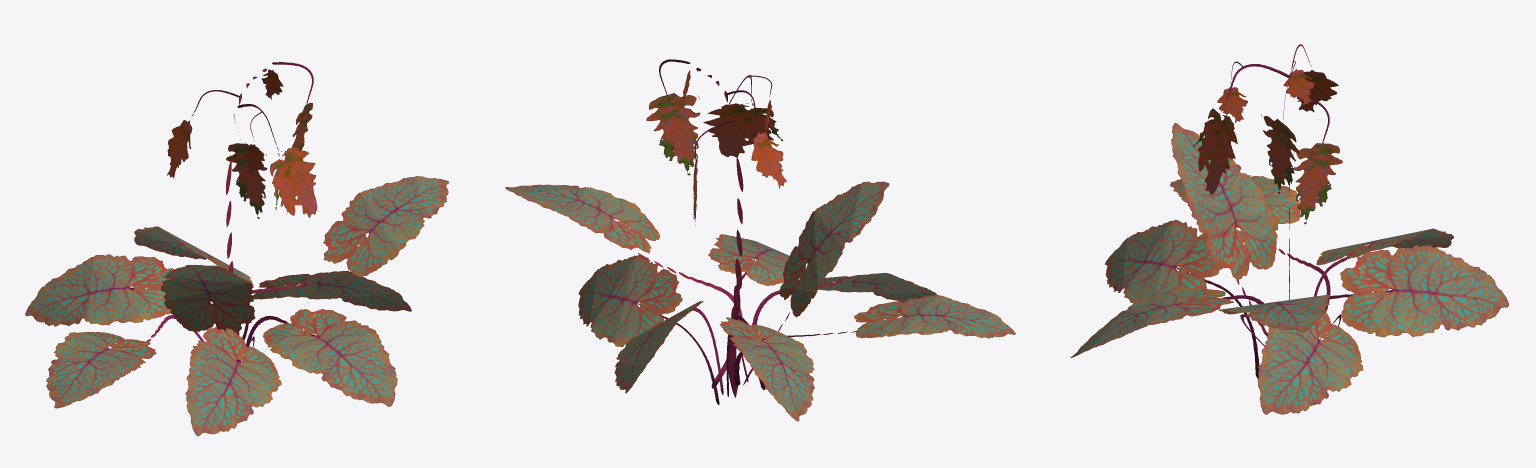
File: Spin Reef B5.fbx
3 renders of one model, left to right at view 1: azimuth 30°, elevation 25°; view 2: azimuth 150°, elevation 25°; view 3: azimuth 270°, elevation 25°, orthographic. The views are drawn at different scales.
Visible parts, largest first — view 1: Spin Reef B5; view 2: Spin Reef B5; view 3: Spin Reef B5.
Part boxes in pixels (x1=…): Spin Reef B5: x1=25, y1=62, x2=449, y2=436; Spin Reef B5: x1=505, y1=59, x2=1015, y2=421; Spin Reef B5: x1=1070, y1=44, x2=1508, y2=414.
Bounding box in the file's own units: 242 × 207 × 190.
